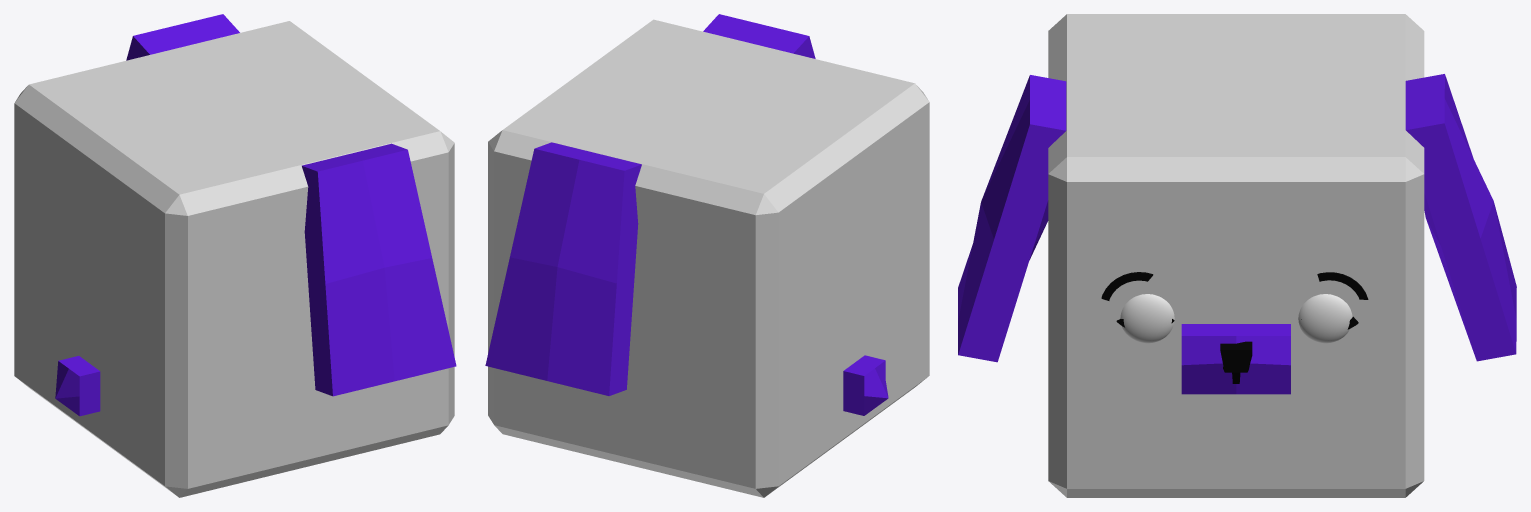
Rendered from CubeParent.fbx.
3 views of the same model, side by side, from view 1: azimuth 30°, elevation 25°; view 2: azimuth 150°, elevation 25°; view 3: azimuth 270°, elevation 25° (orthographic). The views are drawn at different scales.
Visible parts, largest first — view 1: Cube, Cube.004, Cube.005, Cube.002; view 2: Cube, Cube.005, Cube.004, Cube.002; view 3: Cube, Cube.005, Cube.004, Cube.002, Sphere, Cylinder, Cube.003.
Part boxes in pixels (left/top/right/bottom): Cube: left=14, top=21, right=454, bottom=497; Cube.004: left=302, top=143, right=456, bottom=396; Cube.005: left=126, top=14, right=239, bottom=60; Cube.002: left=55, top=356, right=100, bottom=416; Cube: left=488, top=19, right=929, bottom=497; Cube.005: left=485, top=142, right=641, bottom=395; Cube.004: left=703, top=14, right=815, bottom=58; Cube.002: left=843, top=355, right=888, bottom=415; Cube: left=1048, top=14, right=1424, bottom=497; Cube.005: left=1405, top=74, right=1516, bottom=361; Cube.004: left=958, top=75, right=1066, bottom=362; Cube.002: left=1181, top=324, right=1290, bottom=394; Sphere: left=1120, top=294, right=1352, bottom=343; Cylinder: left=1101, top=272, right=1368, bottom=300; Cube.003: left=1220, top=341, right=1252, bottom=383.
Bounding box in the file's own units: 694 × 568 × 827.
